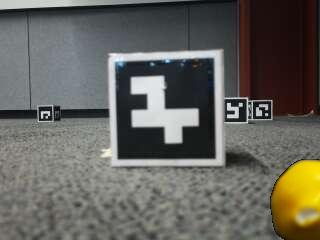lemon: (272, 161, 320, 240)
